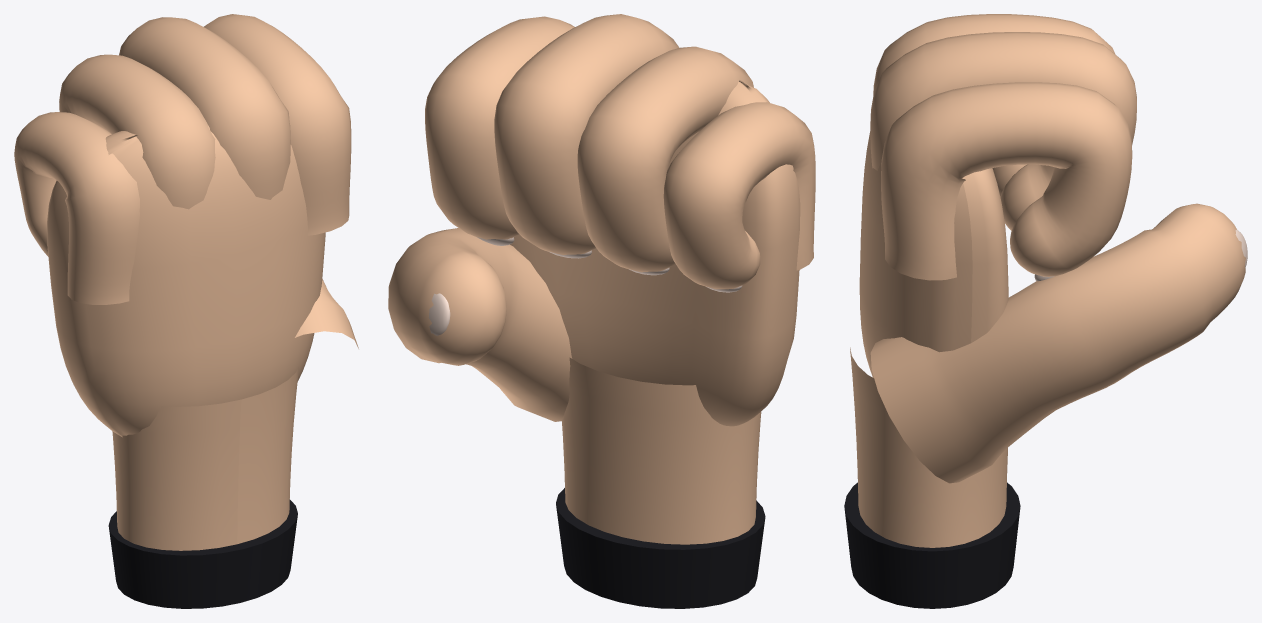
Rendered from hand-left-fist.glb.
The picture shows the model from 3 angles, left to right: view 1: azimuth 30°, elevation 25°; view 2: azimuth 150°, elevation 25°; view 3: azimuth 270°, elevation 25°; orthographic projection. The views are drawn at different scales.
Visible parts, largest first — view 1: hand-left-fist; view 2: hand-left-fist; view 3: hand-left-fist.
Part boxes in pixels (x1,y1,x2,y2): hand-left-fist: (14, 14, 358, 608); hand-left-fist: (388, 14, 815, 608); hand-left-fist: (844, 14, 1247, 608).
Size of the model in its own units: 0.0863 by 0.1431 by 0.0957.
